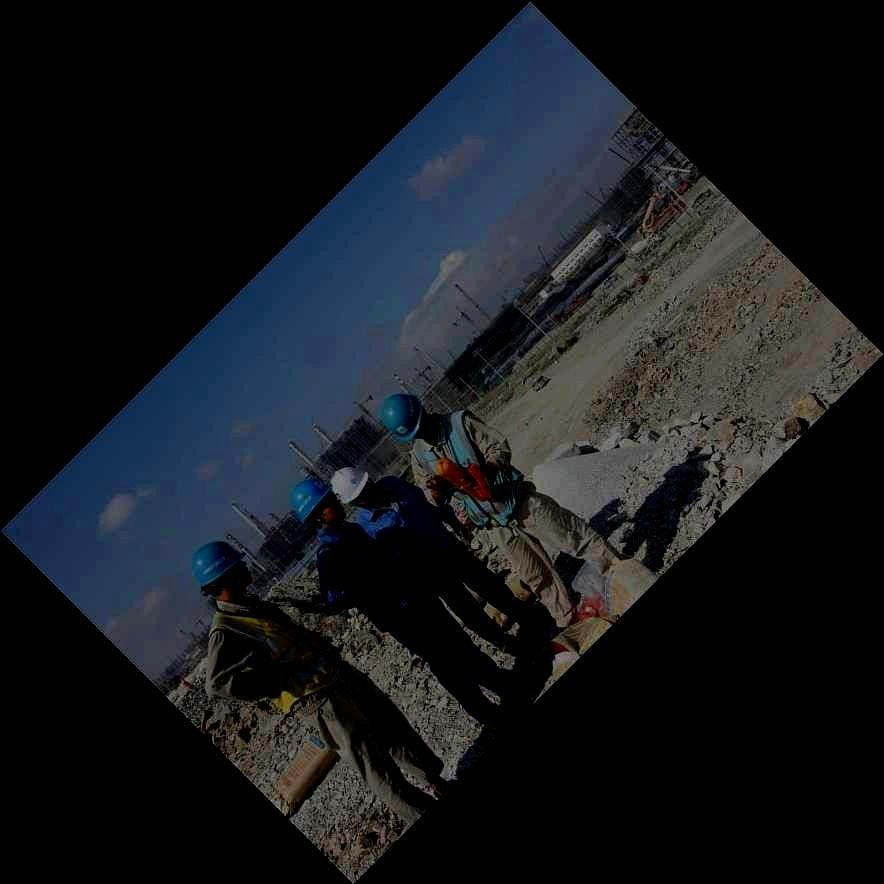helmet: (191, 539, 253, 596), (376, 391, 434, 443), (288, 479, 347, 529), (330, 467, 377, 507)
